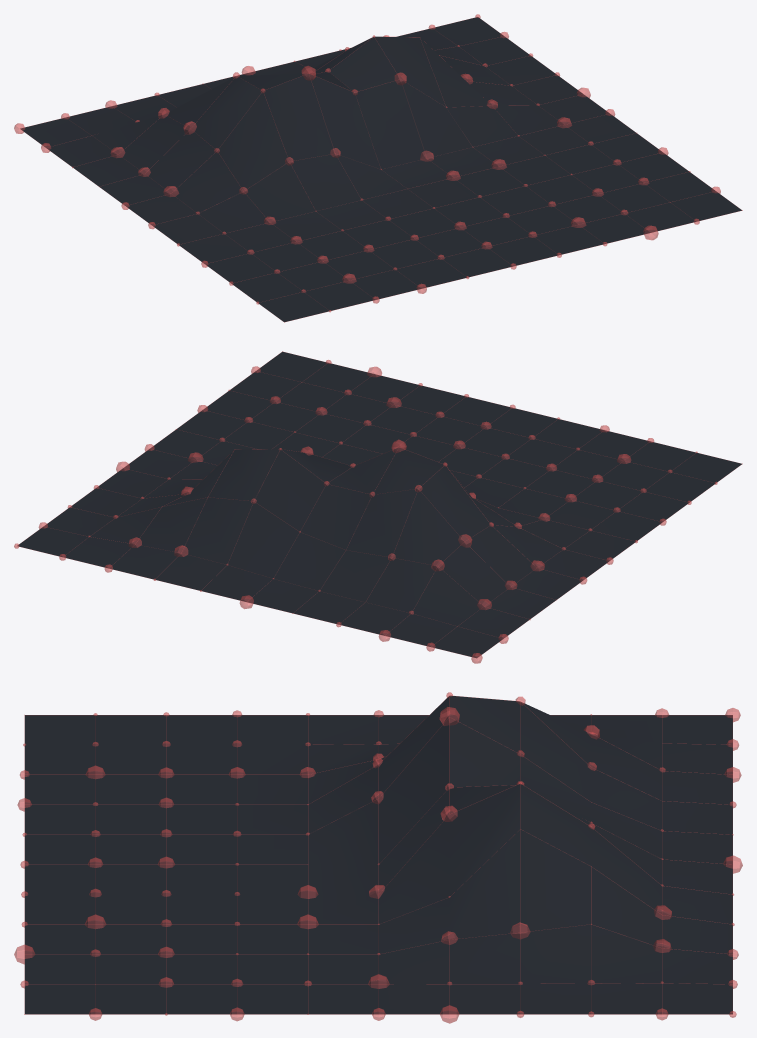
The model's file is Obstacle-Jump.fbx.
3 renders of one model, top to bottom at view 1: azimuth 30°, elevation 25°; view 2: azimuth 150°, elevation 25°; view 3: azimuth 270°, elevation 25°, orthographic. The views are drawn at different scales.
Parts seen in each view (by area): view 1: Obstacle_Jump; view 2: Obstacle_Jump; view 3: Obstacle_Jump.
Boxes of the visible parts, x1,y1,x2,y2 form: Obstacle_Jump: (14, 14, 742, 322); Obstacle_Jump: (14, 351, 742, 663); Obstacle_Jump: (14, 692, 742, 1023).
Size of the model in its own units: 41.01 by 8.52 by 41.18.
